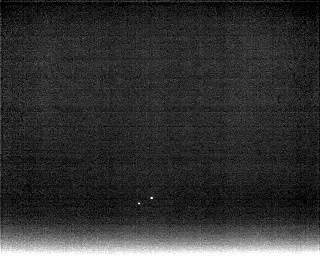BIRD: (148, 193, 155, 202)
